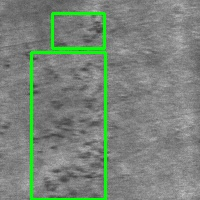rolled-in_scale: (31, 52, 105, 199), (52, 13, 104, 48)
